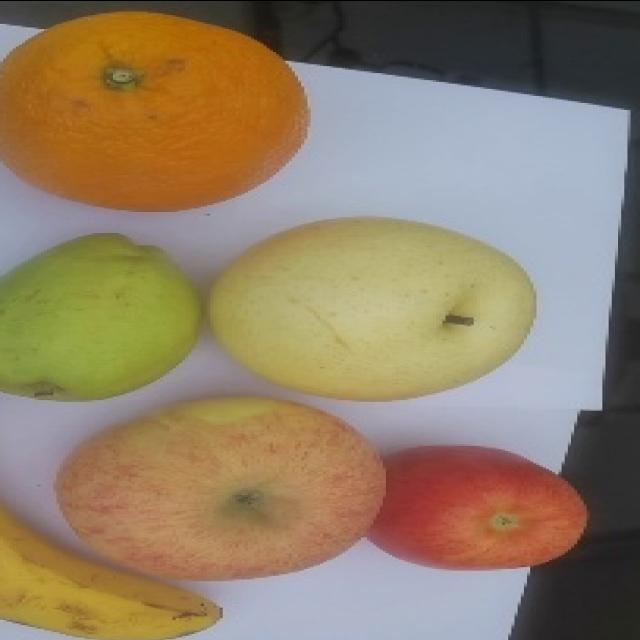Apple: (53, 393, 387, 582), (366, 443, 589, 571)
Banana: (0, 503, 222, 639)
Orange: (0, 10, 310, 212)
